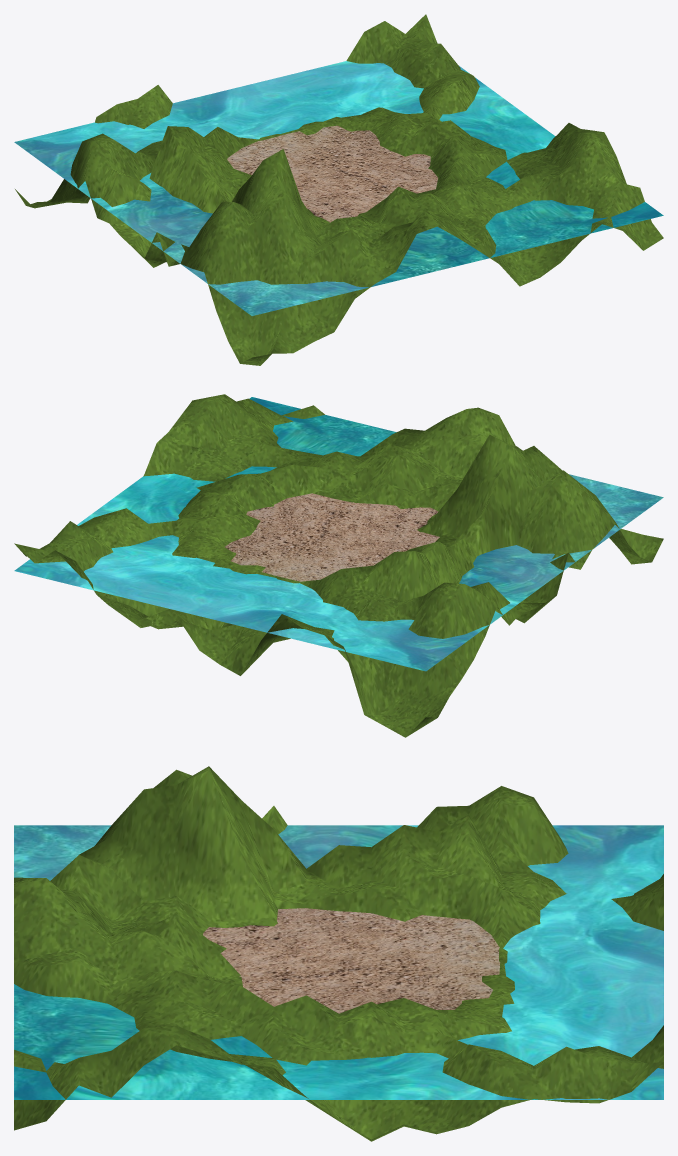
The picture shows the model from 3 angles, top to bottom: view 1: azimuth 30°, elevation 25°; view 2: azimuth 150°, elevation 25°; view 3: azimuth 270°, elevation 25°; orthographic projection. The views are drawn at different scales.
Parts seen in each view (by area): view 1: map, water, ground; view 2: map, water, ground; view 3: map, water, ground.
Part boxes in pixels (left/top/right/bottom): map: left=15, top=14, right=663, bottom=365; water: left=14, top=61, right=663, bottom=315; ground: left=227, top=125, right=437, bottom=222; map: left=14, top=394, right=663, bottom=737; water: left=14, top=397, right=663, bottom=671; ground: left=225, top=493, right=439, bottom=581; map: left=14, top=766, right=663, bottom=1141; water: left=14, top=825, right=663, bottom=1099; ground: left=203, top=908, right=500, bottom=1013.
Bounding box in the file's own units: 400 × 150 × 400.
3 materials, 3 textured.
